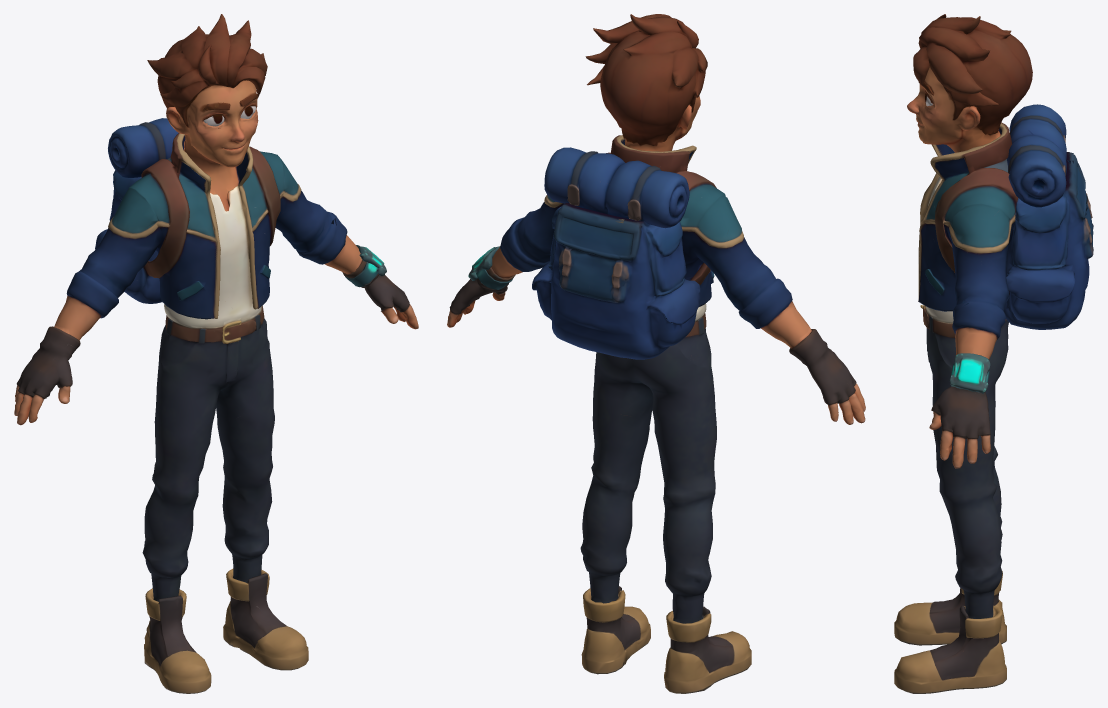
Rendered from neri_textured.glb.
The picture shows the model from 3 angles, left to right: view 1: azimuth 30°, elevation 25°; view 2: azimuth 150°, elevation 25°; view 3: azimuth 270°, elevation 25°; orthographic projection. The views are drawn at different scales.
Visible parts, largest first — view 1: geometry_0; view 2: geometry_0; view 3: geometry_0.
Boxes of the visible parts, bbox=[...] form: geometry_0: bbox=[14, 14, 418, 693]; geometry_0: bbox=[447, 14, 865, 693]; geometry_0: bbox=[894, 14, 1093, 693].
Bounding box in the file's own units: 0.6294 × 0.9517 × 0.2642.
1 material, 1 textured.
